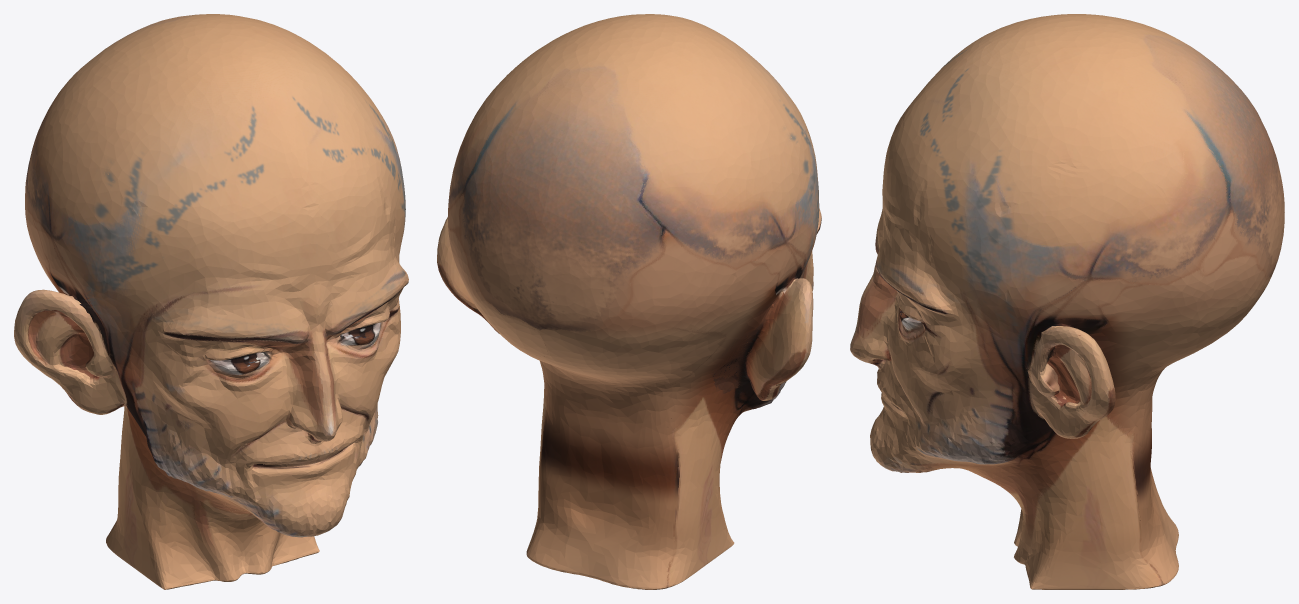
The model's file is side_tbeggar_repaired_atlas.glb.
The picture shows the model from 3 angles, left to right: view 1: azimuth 30°, elevation 25°; view 2: azimuth 150°, elevation 25°; view 3: azimuth 270°, elevation 25°; orthographic projection. The views are drawn at different scales.
Parts seen in each view (by area): view 1: temp_mesh.ply; view 2: temp_mesh.ply; view 3: temp_mesh.ply.
Part boxes in pixels (<box>): temp_mesh.ply: <box>14,14,408,589</box>; temp_mesh.ply: <box>437,14,821,589</box>; temp_mesh.ply: <box>850,14,1284,589</box>.
Bounding box in the file's own units: 1.51 × 1.97 × 1.49.
Materials: 1 (1 with a texture image).
